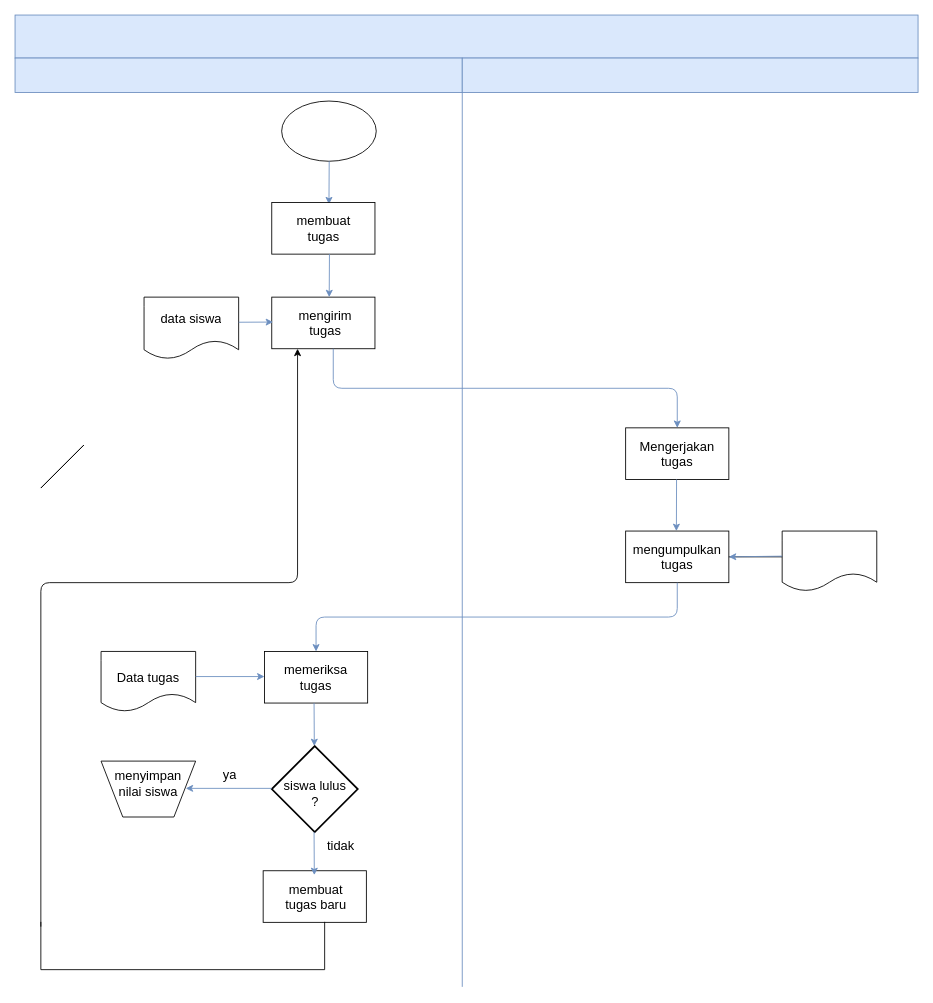
Some shapes in this 933 by 1003 pixel diagram are drawn without their labels. Each missing label, with the centre of its shape:
"Data guru" goes at (829,560).
"Flowchart Berjalan" goes at (466,36).
"Guru" goes at (238,74).
"Murid" goes at (689,74).
"Start" goes at (328,130).
